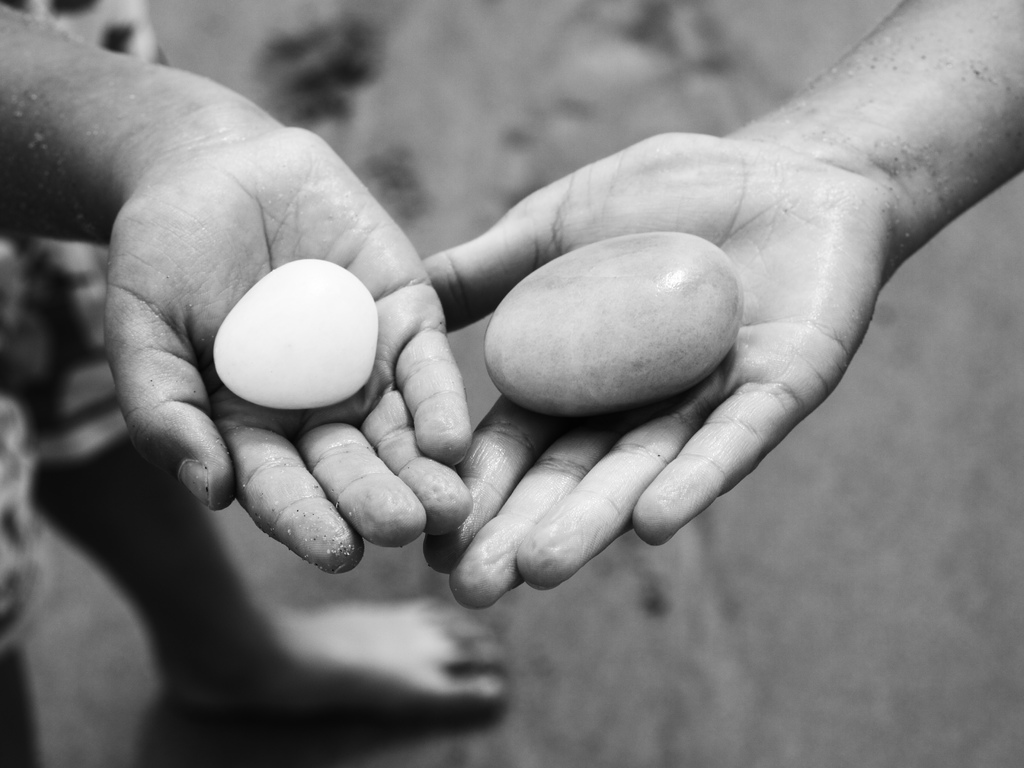Person: (0, 0, 509, 768), (424, 0, 1024, 607)
